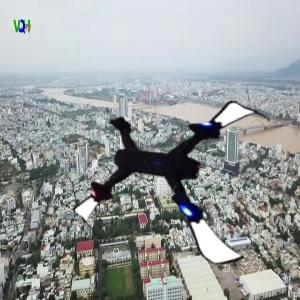drone: (88, 76, 273, 261)
